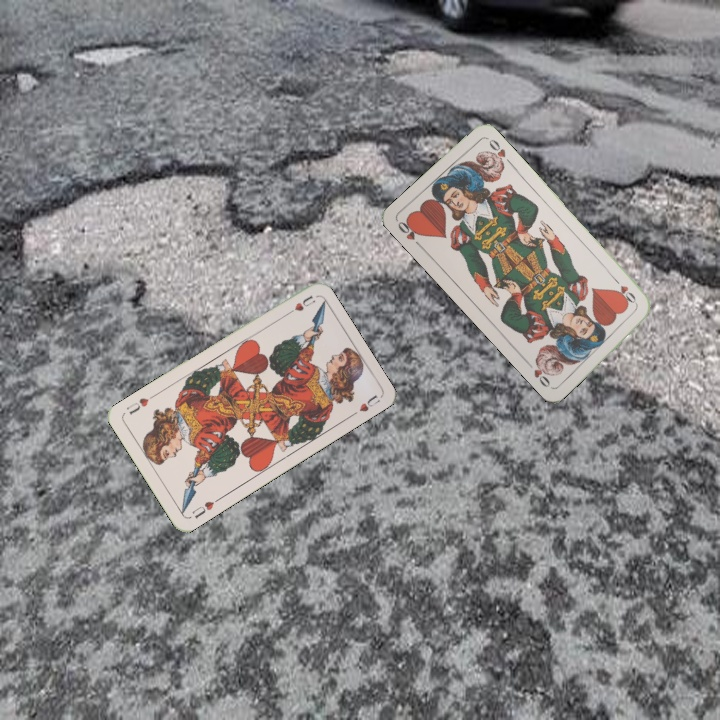HO: (394, 216, 425, 250), (610, 274, 640, 309)
HU: (281, 291, 318, 318), (188, 494, 222, 521)
